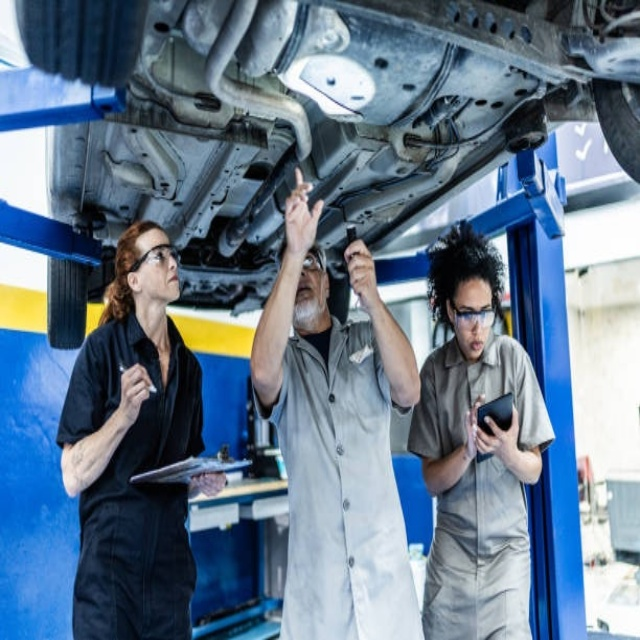Gafas: (130, 243, 180, 272), (452, 301, 495, 327), (300, 254, 325, 273)
Sin_guantes: (283, 166, 323, 246), (344, 230, 379, 305), (116, 361, 152, 424), (481, 408, 522, 462), (463, 393, 483, 462), (189, 470, 227, 499)
Sin_mascara: (294, 280, 316, 318), (464, 330, 485, 361), (162, 268, 182, 299)
